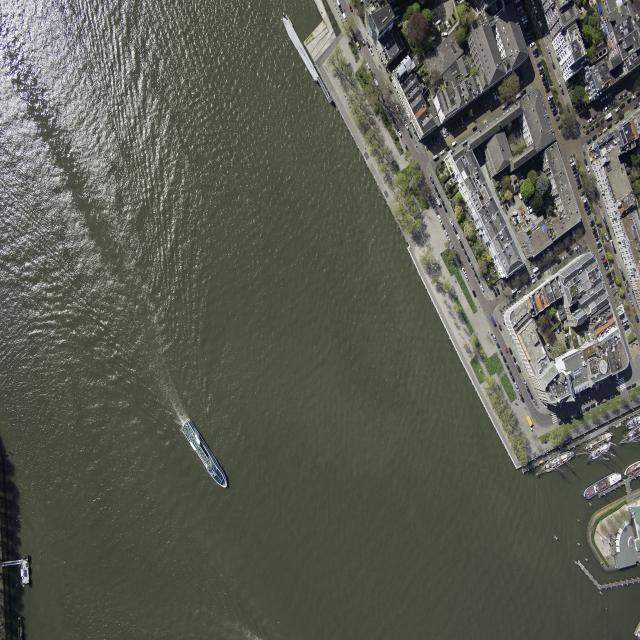large-vehicle: (620, 316, 628, 325)
ship: (181, 416, 229, 495), (582, 469, 623, 502), (542, 448, 574, 475), (583, 429, 614, 454), (589, 441, 612, 462), (478, 103, 483, 113), (539, 460, 543, 464)
small-vehicle: (490, 315, 496, 327), (532, 265, 540, 274), (549, 102, 556, 110), (511, 286, 518, 294), (373, 78, 379, 87), (407, 130, 413, 139), (435, 197, 441, 206), (436, 25, 441, 35), (566, 104, 571, 114), (435, 19, 442, 26), (342, 13, 347, 22), (349, 26, 354, 35), (356, 41, 361, 50), (369, 48, 374, 57), (464, 273, 469, 282), (437, 214, 442, 223), (473, 269, 478, 278), (442, 129, 447, 138), (459, 240, 464, 249), (440, 197, 445, 206), (547, 248, 552, 257), (517, 388, 522, 397), (516, 364, 521, 373), (508, 347, 513, 356), (635, 13, 640, 22), (607, 231, 612, 240), (518, 190, 523, 199), (634, 314, 639, 323), (433, 153, 439, 160), (439, 149, 445, 156), (521, 15, 527, 22), (523, 23, 529, 30), (526, 30, 532, 37), (528, 38, 534, 45), (532, 48, 538, 55), (531, 277, 537, 284), (547, 94, 553, 101), (549, 357, 555, 364), (552, 109, 558, 116), (568, 249, 574, 256), (611, 88, 617, 95), (621, 80, 627, 87), (606, 271, 612, 278), (619, 313, 625, 320), (565, 246, 571, 253), (600, 398, 607, 404), (624, 324, 630, 331), (619, 114, 625, 121), (614, 106, 620, 113), (577, 183, 583, 190), (582, 197, 588, 204), (388, 109, 393, 117), (348, 4, 353, 12), (352, 34, 357, 42), (366, 63, 371, 71), (445, 20, 450, 28), (451, 13, 456, 21), (440, 222, 445, 230), (456, 256, 461, 264), (461, 267, 466, 275), (472, 290, 477, 298), (453, 227, 458, 235), (404, 144, 409, 152), (429, 139, 434, 147), (429, 176, 434, 184), (433, 184, 438, 192), (427, 193, 432, 201), (430, 200, 435, 208), (434, 207, 439, 215), (546, 46, 551, 54), (492, 333, 497, 341), (502, 355, 507, 363), (529, 392, 534, 400), (525, 385, 530, 393), (522, 378, 527, 386), (512, 356, 517, 364), (604, 233, 609, 241), (458, 117, 462, 126), (517, 5, 523, 11), (525, 27, 531, 33), (529, 42, 535, 48), (545, 87, 551, 93), (515, 93, 521, 99), (501, 104, 507, 110), (511, 293, 517, 299), (521, 285, 527, 291), (530, 273, 536, 279), (517, 215, 521, 224), (527, 208, 533, 214), (605, 93, 611, 99), (617, 95, 623, 101), (609, 283, 615, 289), (633, 103, 639, 109), (603, 216, 607, 225), (610, 239, 614, 248), (608, 279, 614, 285), (565, 416, 571, 422), (585, 406, 591, 412), (590, 403, 596, 409), (591, 114, 597, 120), (626, 385, 632, 391), (615, 372, 619, 381), (586, 139, 592, 145), (602, 106, 608, 112), (579, 112, 585, 118), (562, 254, 568, 260), (395, 104, 400, 111), (370, 72, 375, 79), (381, 95, 386, 102), (391, 117, 396, 124), (394, 124, 399, 131), (476, 277, 481, 284), (456, 234, 461, 241), (449, 220, 454, 227), (469, 263, 474, 270), (445, 145, 450, 152), (540, 29, 545, 36), (537, 61, 542, 68), (538, 65, 543, 72), (542, 75, 547, 82), (543, 79, 548, 86), (549, 98, 554, 105), (537, 273, 542, 280), (620, 102, 625, 109), (520, 396, 525, 403), (595, 100, 600, 107), (510, 211, 517, 216), (598, 246, 603, 253), (621, 274, 626, 281), (592, 134, 597, 141), (590, 125, 595, 132), (361, 38, 365, 46), (387, 85, 391, 93), (437, 191, 441, 199), (443, 22, 447, 30), (448, 18, 452, 26), (444, 229, 448, 237), (447, 235, 451, 243), (466, 255, 470, 263), (463, 248, 467, 256), (427, 141, 431, 149), (432, 137, 436, 145), (405, 123, 409, 131), (445, 128, 449, 136), (450, 124, 454, 132), (455, 120, 459, 128), (466, 113, 470, 121), (443, 205, 447, 213), (493, 93, 497, 101), (533, 6, 537, 14), (495, 91, 499, 99), (480, 285, 484, 293), (493, 289, 497, 297), (496, 287, 500, 295), (542, 252, 546, 260), (512, 218, 516, 226), (500, 282, 504, 290), (510, 276, 514, 284), (556, 326, 560, 334), (560, 87, 564, 95), (619, 266, 623, 274), (605, 224, 609, 232), (558, 324, 562, 332), (565, 236, 569, 244), (598, 200, 602, 208), (594, 189, 598, 197), (588, 172, 592, 180), (394, 6, 399, 12), (452, 140, 457, 146), (472, 125, 477, 131), (523, 19, 528, 25), (528, 34, 533, 40), (534, 52, 539, 58), (539, 69, 544, 75), (544, 83, 549, 89), (521, 89, 526, 95), (527, 281, 532, 287), (558, 124, 563, 130), (547, 347, 552, 353), (551, 106, 556, 112), (555, 115, 560, 121), (631, 94, 636, 100), (527, 204, 532, 210), (524, 197, 529, 203), (607, 102, 612, 108), (590, 221, 595, 227), (597, 243, 602, 249), (601, 254, 606, 260), (602, 258, 607, 264), (574, 245, 579, 251), (608, 275, 613, 281), (615, 391, 621, 396), (564, 337, 569, 343), (558, 420, 563, 426), (623, 321, 628, 327), (631, 383, 637, 388), (587, 118, 592, 124), (585, 129, 590, 135), (614, 118, 619, 124), (597, 131, 602, 137), (607, 123, 612, 129), (570, 161, 575, 167), (573, 169, 578, 175), (574, 172, 579, 178), (580, 191, 585, 197), (584, 202, 589, 208), (585, 205, 590, 211), (587, 210, 592, 216), (595, 122, 600, 128), (575, 176, 580, 182), (366, 41, 370, 48), (450, 242, 454, 249), (506, 363, 510, 370), (460, 117, 464, 124), (463, 115, 467, 122), (538, 21, 542, 28), (483, 100, 487, 107), (551, 62, 555, 69), (520, 73, 524, 80), (545, 251, 549, 258), (504, 346, 508, 353), (535, 257, 539, 264), (515, 272, 519, 279), (503, 281, 507, 288), (505, 279, 509, 286), (498, 324, 502, 331), (496, 342, 500, 349), (499, 349, 503, 356), (508, 369, 512, 376), (511, 375, 515, 382), (557, 80, 561, 87), (505, 204, 509, 211), (339, 7, 343, 14), (625, 286, 629, 293), (628, 293, 632, 300), (632, 307, 636, 314), (613, 247, 617, 254), (507, 200, 511, 207), (589, 386, 593, 393), (514, 382, 518, 389), (586, 165, 590, 172), (430, 36, 435, 41), (623, 92, 628, 97), (600, 97, 605, 102), (612, 99, 617, 104), (589, 218, 594, 223), (592, 229, 597, 234), (595, 236, 600, 241), (596, 240, 601, 245), (596, 401, 601, 406), (564, 329, 569, 334), (564, 333, 569, 338), (565, 341, 570, 346), (575, 412, 580, 417), (580, 409, 585, 414), (610, 394, 615, 399), (572, 165, 577, 170), (598, 110, 603, 115), (569, 158, 574, 163), (584, 109, 589, 114), (557, 259, 561, 265), (441, 32, 447, 36), (398, 131, 402, 137), (435, 135, 439, 141), (448, 126, 451, 134), (453, 122, 456, 130), (536, 14, 540, 20), (533, 260, 537, 266), (515, 218, 519, 224), (627, 98, 631, 104), (594, 232, 598, 238), (630, 300, 634, 306), (585, 388, 588, 396), (603, 127, 607, 133), (577, 179, 581, 185), (584, 158, 587, 166), (425, 144, 428, 151), (489, 97, 492, 104), (512, 196, 515, 203), (613, 374, 616, 381), (595, 383, 598, 390), (587, 387, 590, 394), (578, 391, 581, 398), (575, 393, 578, 400), (562, 401, 565, 408), (572, 231, 575, 238), (591, 180, 594, 187), (541, 73, 545, 78), (507, 101, 511, 106), (517, 289, 521, 294), (606, 396, 610, 401), (547, 343, 551, 348), (526, 202, 530, 207), (592, 225, 596, 230), (604, 262, 608, 267), (567, 345, 571, 350), (571, 414, 575, 419), (600, 118, 604, 123), (470, 110, 473, 116), (553, 245, 556, 251), (559, 402, 562, 408), (605, 266, 609, 270), (557, 404, 559, 410), (598, 382, 599, 388)
